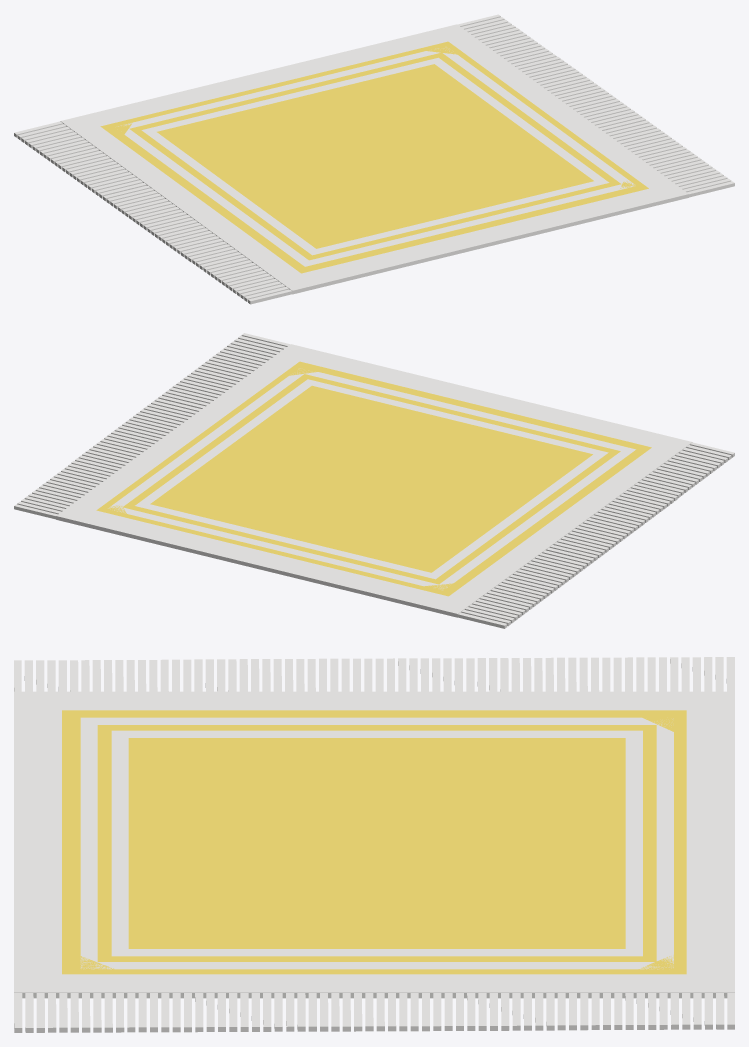
File: Carpet_12.glb
The picture shows the model from 3 angles, top to bottom: view 1: azimuth 30°, elevation 25°; view 2: azimuth 150°, elevation 25°; view 3: azimuth 270°, elevation 25°; orthographic projection. The views are drawn at different scales.
Parts seen in each view (by area): view 1: Carpet_12; view 2: Carpet_12; view 3: Carpet_12.
Boxes of the visible parts, x1=… form: Carpet_12: x1=14, y1=14, x2=734, y2=304; Carpet_12: x1=14, y1=333, x2=734, y2=628; Carpet_12: x1=14, y1=657, x2=734, y2=1032.
Bounding box in the file's own units: 2.86 × 0.0209 × 2.35.
1 material, 1 textured.
